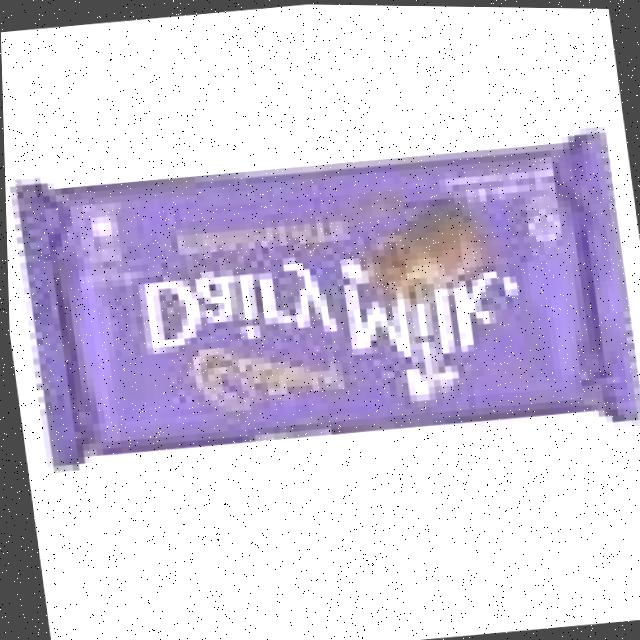cadbury: (5, 120, 640, 481)
